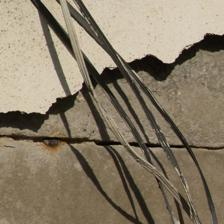Crack: (2, 16, 221, 111)
